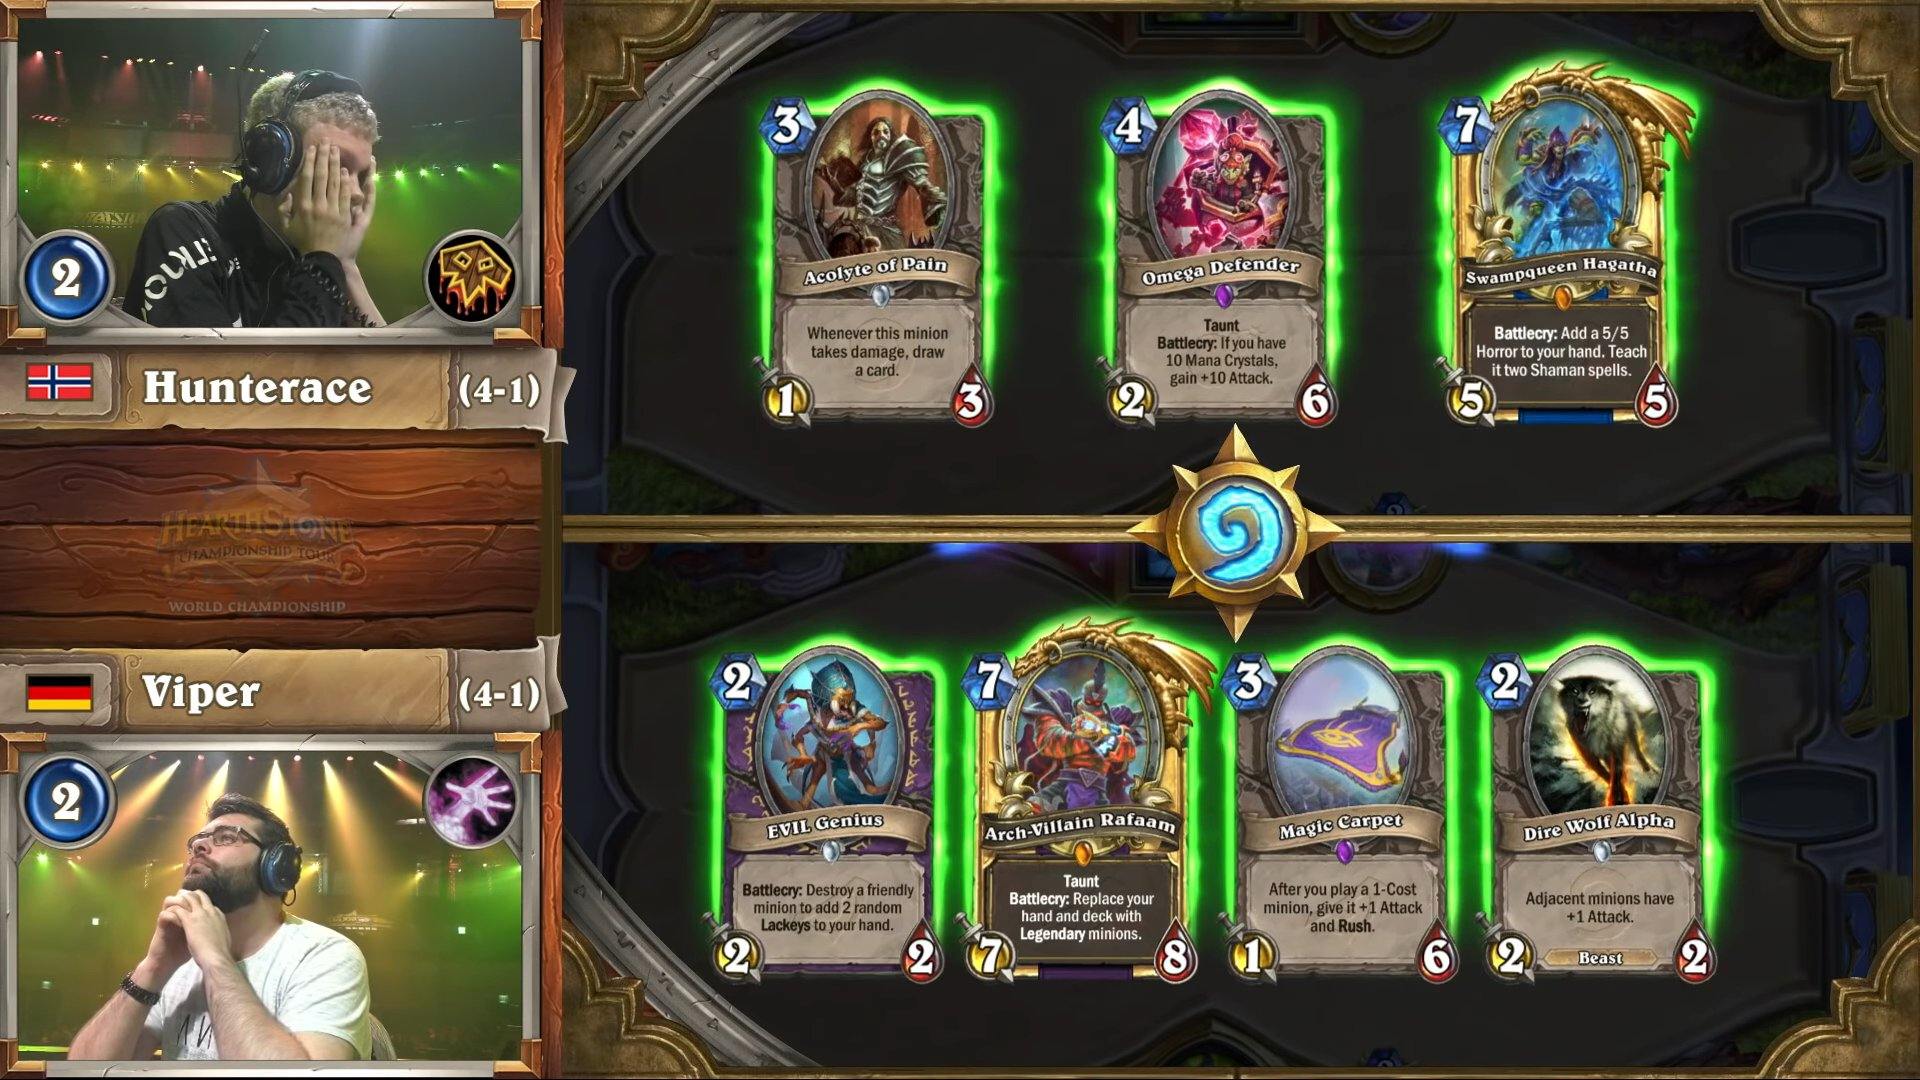card: (1218, 636, 1465, 982), (1439, 80, 1685, 427), (963, 632, 1205, 982), (1476, 634, 1721, 981), (707, 644, 945, 986), (758, 84, 996, 426), (1098, 86, 1335, 429)
